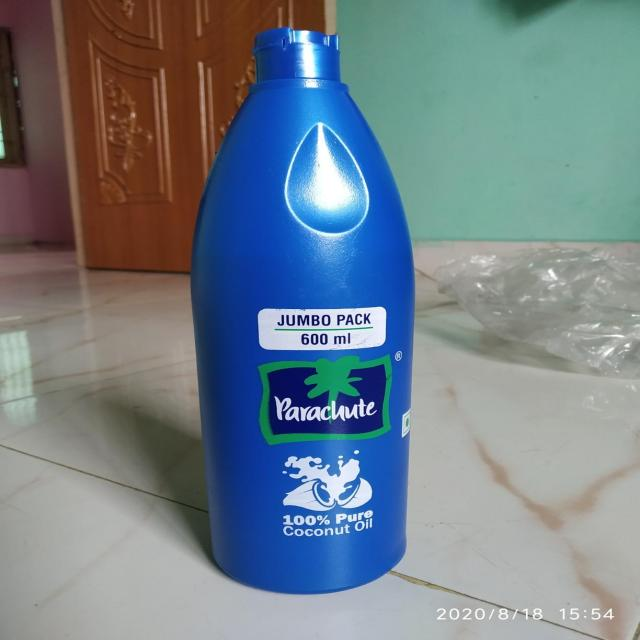parachute_oil: (185, 16, 428, 595)
